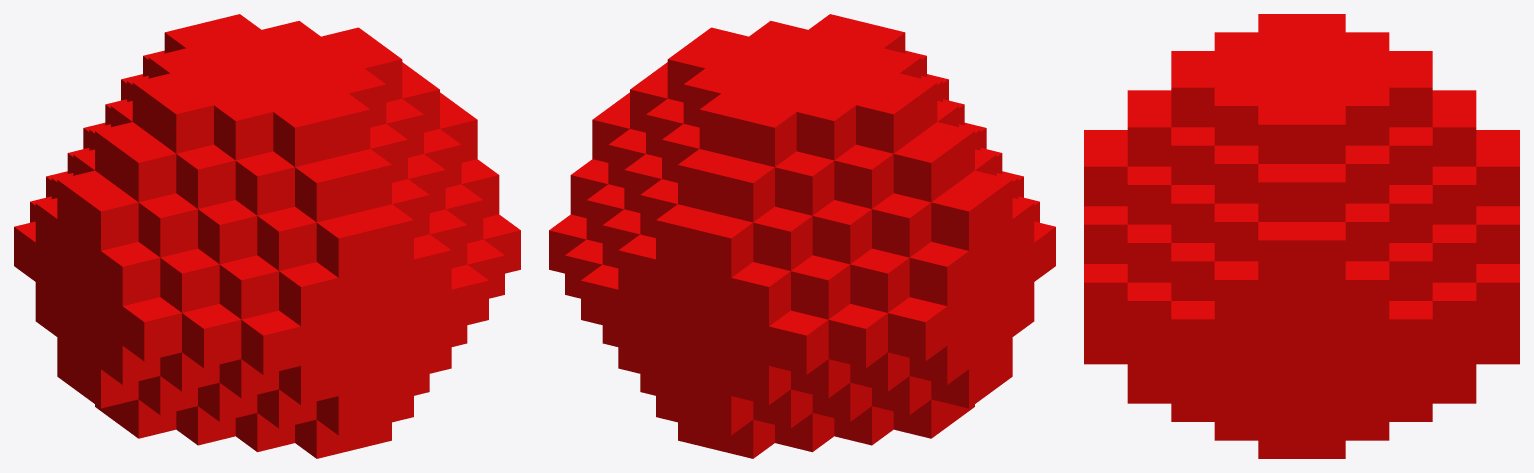
File: potionRed.fbx
3 renders of one model, left to right at view 1: azimuth 30°, elevation 25°; view 2: azimuth 150°, elevation 25°; view 3: azimuth 270°, elevation 25°, orthographic.
Visible parts, largest first — view 1: potionRed; view 2: potionRed; view 3: potionRed.
Boxes of the visible parts, box(x1,y1,x2,y2) form: potionRed: box(14, 14, 520, 458); potionRed: box(549, 14, 1055, 458); potionRed: box(1084, 14, 1519, 458).
Bounding box in the file's own units: 30 × 24 × 30.
